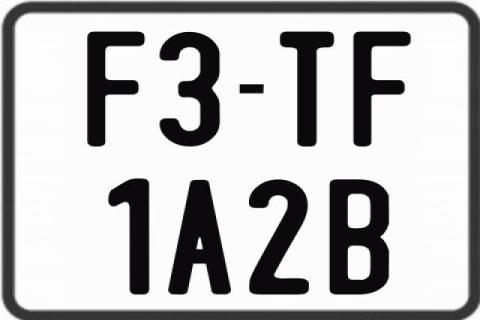0: (159, 32, 224, 146), (248, 179, 311, 295), (105, 179, 148, 297)
A: (168, 178, 233, 298)
B: (327, 178, 387, 298)
F: (87, 31, 148, 150), (352, 30, 413, 148)
T: (279, 29, 338, 147)
